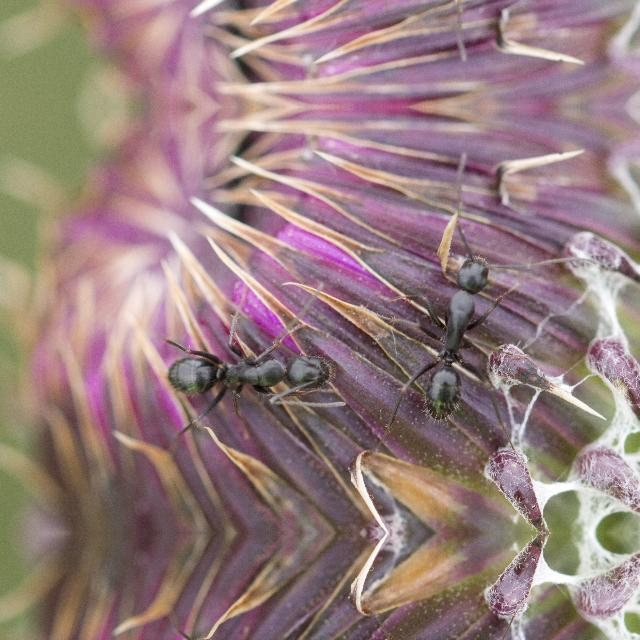Camponotus: (384, 232, 532, 433), (143, 327, 349, 421)
